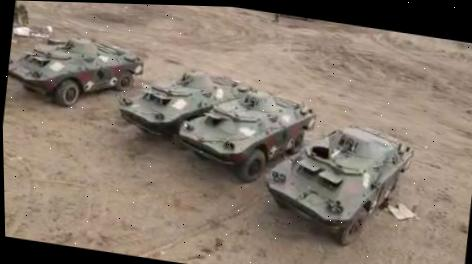person: (17, 1, 30, 23), (11, 0, 20, 24)
tank: (256, 101, 420, 256), (170, 72, 318, 191), (3, 25, 146, 118), (113, 58, 254, 148)
